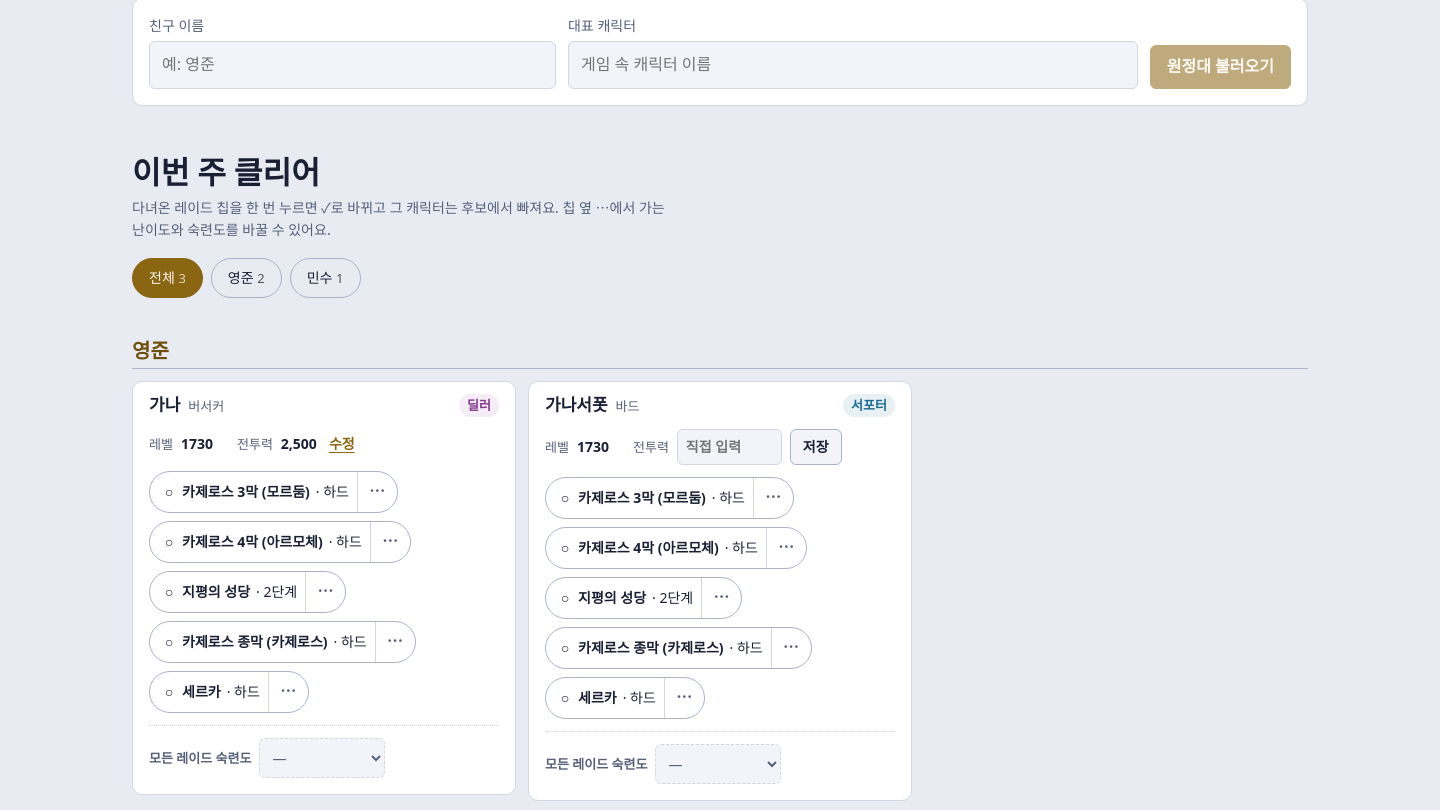
Test case: 웹 화면 › 역할 배지를 누르면 수동 역할로 바꾸고(수동 표시), 다시 누르면 자동으로 되돌린다
The image size is (1440, 810).
(page scrolled)
Click the button with aria-label "가나 역할: 딜러 (자동). 누르면 서포터로 바꿔요" at x=479, y=405, box left=459, top=394, right=499, bottom=417
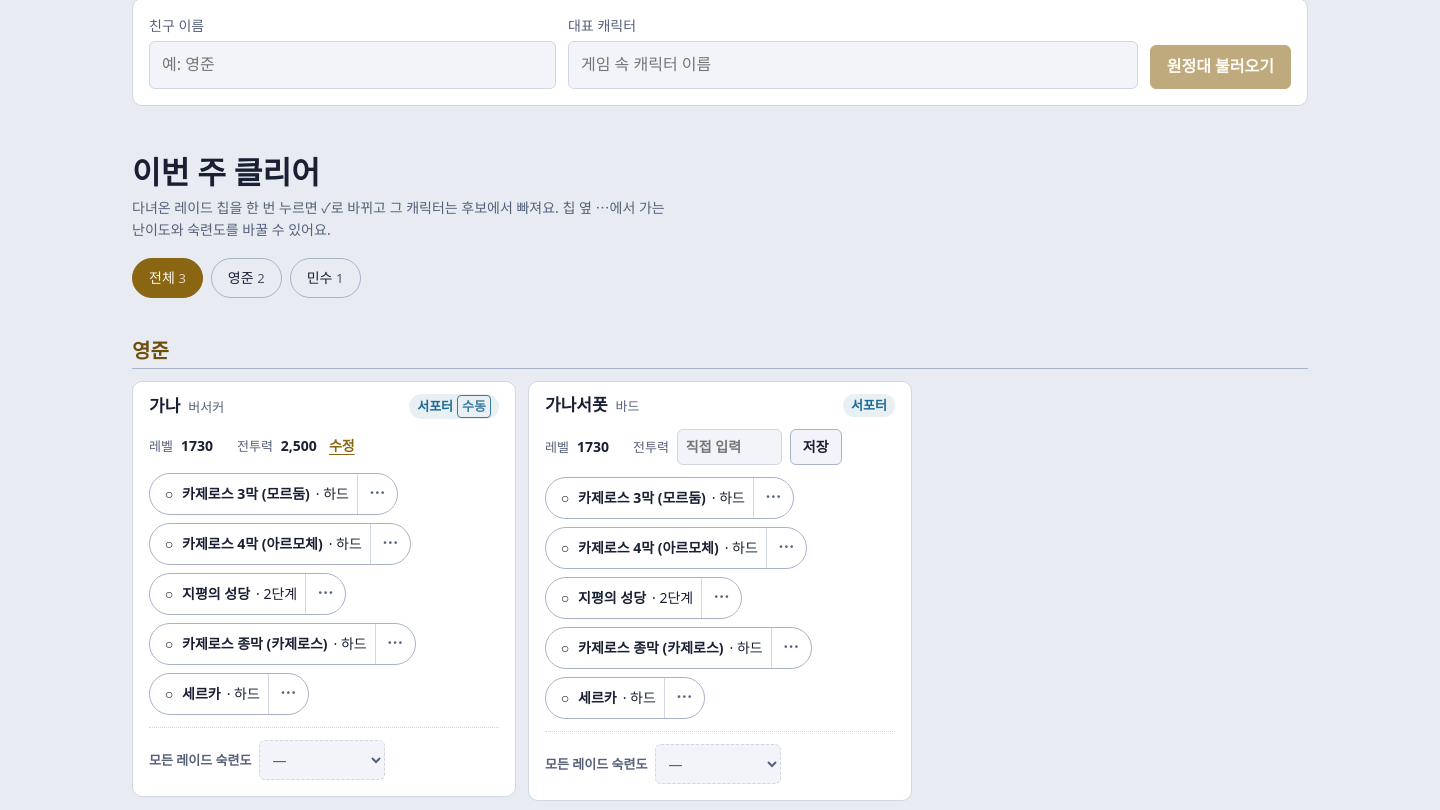
Check: the button with aria-label "가나 역할: 서포터 (수동). 누르면 자동으로 되돌려요" shows "서포터"
Check: the button with aria-label "가나 역할: 서포터 (수동). 누르면 자동으로 되돌려요" shows "수동"
Click the button with aria-label "가나 역할: 서포터 (수동). 누르면 자동으로 되돌려요" at x=454, y=406, box left=409, top=394, right=499, bottom=419
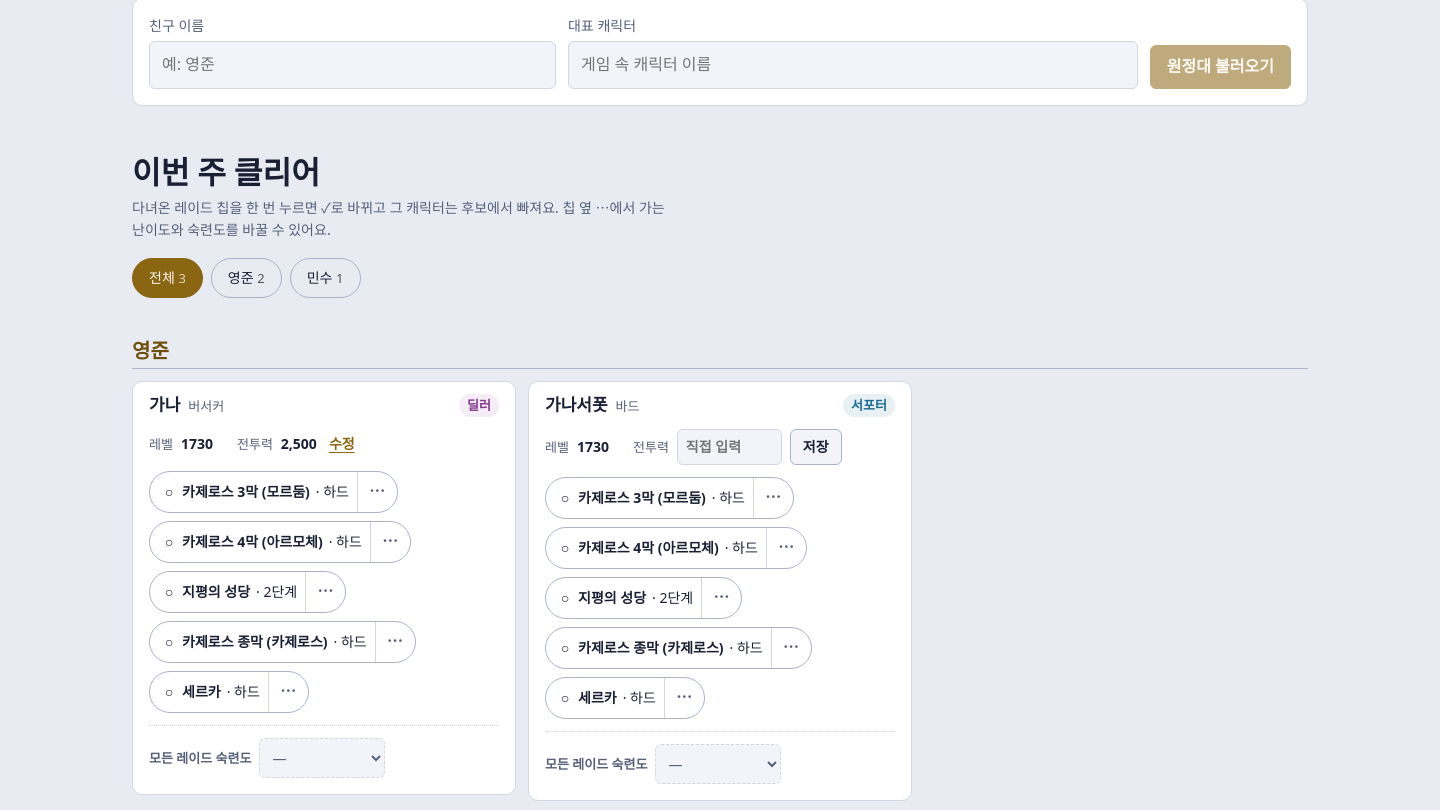
Check: the button with aria-label "가나 역할: 딜러 (자동). 누르면 서포터로 바꿔요" is shown, box left=459, top=394, right=499, bottom=417
